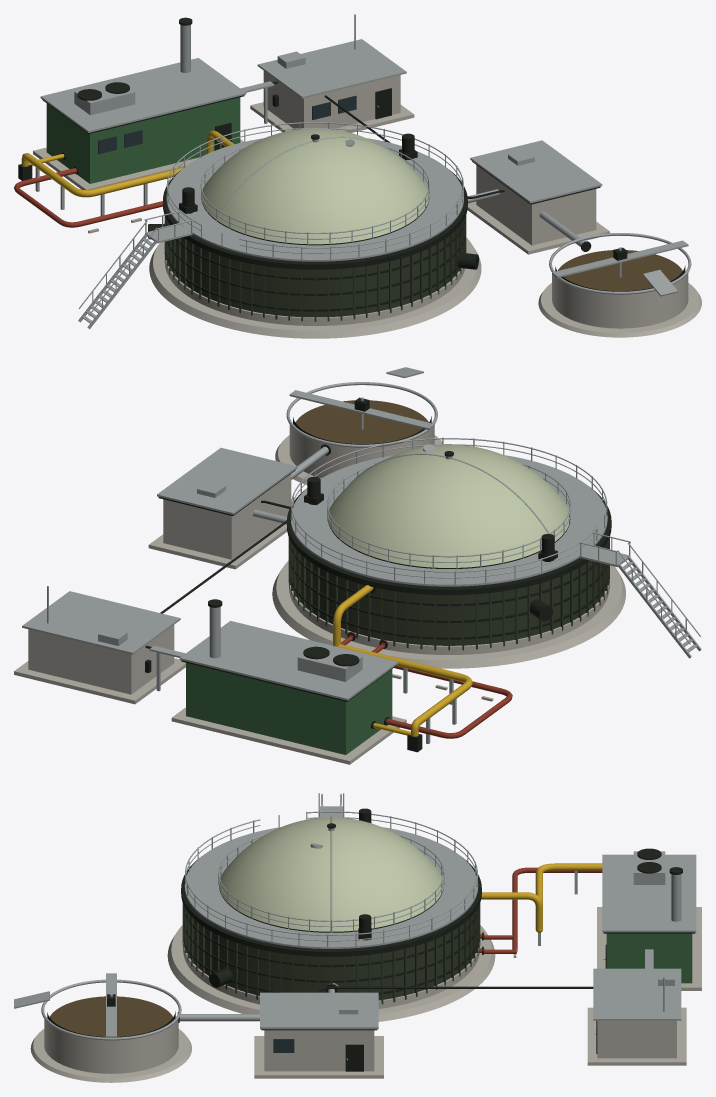
Rendered from iona-tesis-3d.glb.
3 views of the same model, one above another, from view 1: azimuth 30°, elevation 25°; view 2: azimuth 150°, elevation 25°; view 3: azimuth 270°, elevation 25° (orthographic). The views are drawn at different scales.
Parts seen in each view (by area): view 1: gas_dome, roof_fascia (×3), tank_wall, dome_walkway, wall_front (×2), foundation_pad, wall_left (×3), pool_wall, slab (×3), substrate_surface, top_ring, wall_plinth (+17 smaller); view 2: gas_dome, roof_fascia (×3), wall_back (×3), dome_walkway, tank_wall, foundation_pad, slab (×3), substrate_surface, wall_left (×2), top_ring, wall_plinth, wall_right (+14 smaller); view 3: gas_dome, roof_fascia (×3), dome_walkway, tank_wall, wall_right (×2), slab (×3), pool_wall, foundation_pad, wall_front, substrate_surface, top_ring, pool_pad (+18 smaller).
Part boxes in pixels (x1,y1,x2,y2): gas_dome: (201,128,428,244); roof_fascia (×3): (40,39,602,203); tank_wall: (169,224,461,317); dome_walkway: (166,138,463,261); wall_front (×2): (89,75,400,183); foundation_pad: (149,237,481,338); wall_left (×3): (47,72,594,244); pool_wall: (552,273,688,328); slab (×3): (33,102,609,254); substrate_surface: (557,250,682,291); top_ring: (163,168,467,269); wall_plinth: (164,255,464,325); gas_dome: (328,444,570,567); roof_fascia (×3): (22,447,398,700); wall_back (×3): (28,474,347,754); dome_walkway: (290,455,607,586); tank_wall: (293,546,604,645); foundation_pad: (272,560,625,668); slab (×3): (14,523,406,764); substrate_surface: (295,400,428,443); wall_left (×2): (132,626,390,753); top_ring: (287,487,611,595); wall_plinth: (289,579,609,654); wall_right: (165,500,229,559); gas_dome: (219,817,443,931); roof_fascia (×3): (260,854,696,1029); dome_walkway: (184,827,478,948); tank_wall: (187,912,475,1000); wall_right (×2): (599,933,689,1058); slab (×3): (254,907,701,1078); pool_wall: (44,1019,178,1073); foundation_pad: (167,925,495,1021); wall_front: (264,1030,374,1071); substrate_surface: (49,996,172,1036); top_ring: (181,856,481,956); pool_pad: (30,1029,191,1082).
Bounding box in the file's own units: 46.24 × 11.86 × 56.27.
